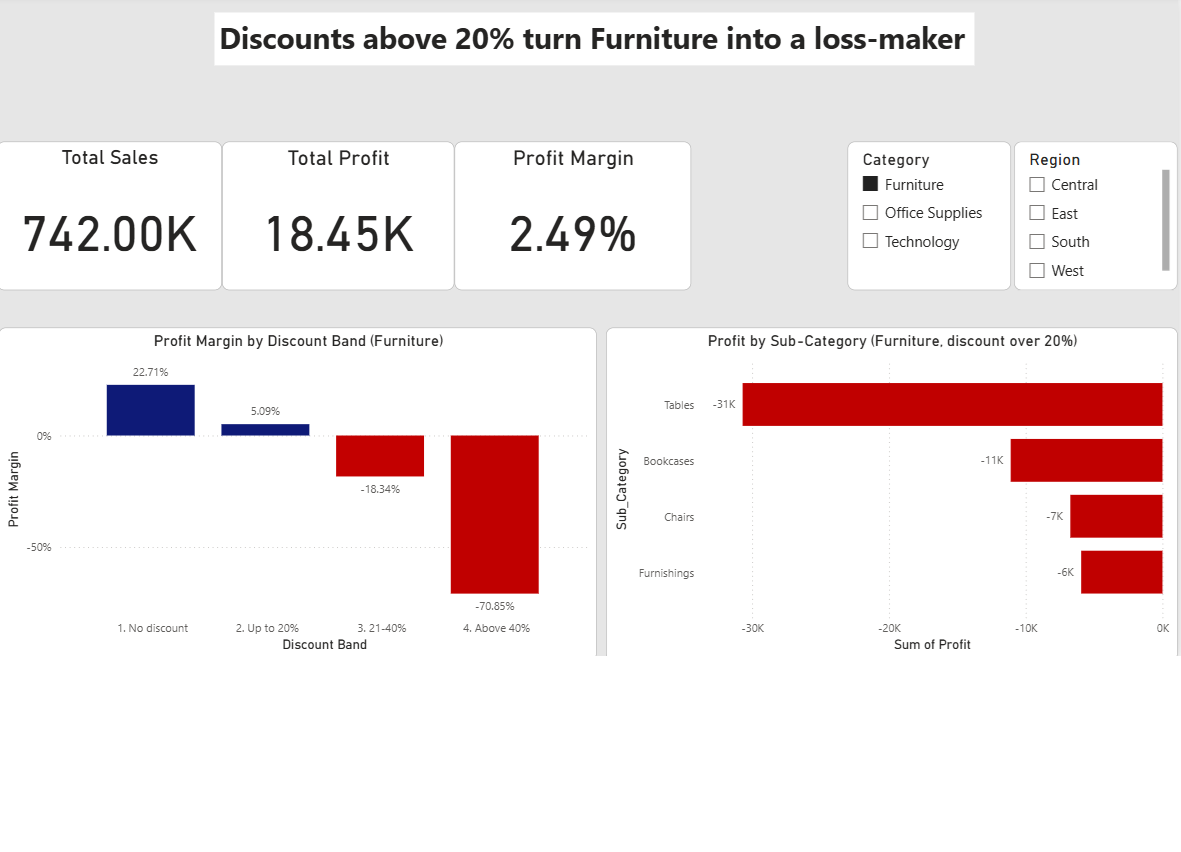

The dashboard page shown, as its layout file describes it:
{"tool":"powerbi","page":{"name":"Page 1","canvas":[1280,720],"ordinal":0},"visuals":[{"type":"card","title":"Total Sales","fields":{"Values":["Sum(orders (2).Sales)"]},"box":[9.5,158.3,244.1,175.4],"z":0},{"type":"card","title":"Total Profit ","fields":{"Values":["Sum(orders (2).Profit)"]},"box":[253.6,158.3,251.7,175.4],"z":1000},{"type":"card","title":"Profit Margin","fields":{"Values":["orders (2).Profit Margin"]},"box":[505.3,158.3,257.4,175.4],"z":2000},{"type":"clusteredColumnChart","title":"Profit Margin by Discount Band (Furniture)","fields":{"Category":["orders (2).Discount Band"],"Y":["orders (2).Profit Margin"]},"box":[0,366.6,648.4,353.1],"z":3000},{"type":"clusteredBarChart","title":"Profit by Sub-Category  (Furniture, discount over 20%)","fields":{"Category":["orders (2).Sub_Category"],"Y":["Sum(orders (2).Profit)"]},"box":[660.8,366.5,618.6,353.5],"z":4000},{"type":"slicer","fields":{"Values":["orders (2).Category"]},"box":[854.2,158.3,177.3,175.4],"z":5000},{"type":"slicer","fields":{"Values":["orders (2).Region"]},"box":[1060.4,157.5,176.7,174.8],"z":6000},{"type":"textbox","box":[236.4,17.2,823.7,57.2],"z":7000}]}

Visuals, with their boxes on the page's 1280x720 design canvas (x1, y1, x2, y2). These are canvas units, not pixel positions in the 1181x852 screenshot, which may show the page scaled, cropped or inside an application window:
"Total Sales" card: (10,158,254,334)
"Total Profit " card: (254,158,505,334)
"Profit Margin" card: (505,158,763,334)
"Profit Margin by Discount Band (Furniture)" clusteredColumnChart: (0,367,648,720)
"Profit by Sub-Category  (Furniture, discount over 20%)" clusteredBarChart: (661,366,1279,720)
slicer - orders (2).Category: (854,158,1032,334)
slicer - orders (2).Region: (1060,158,1237,332)
textbox: (236,17,1060,74)
